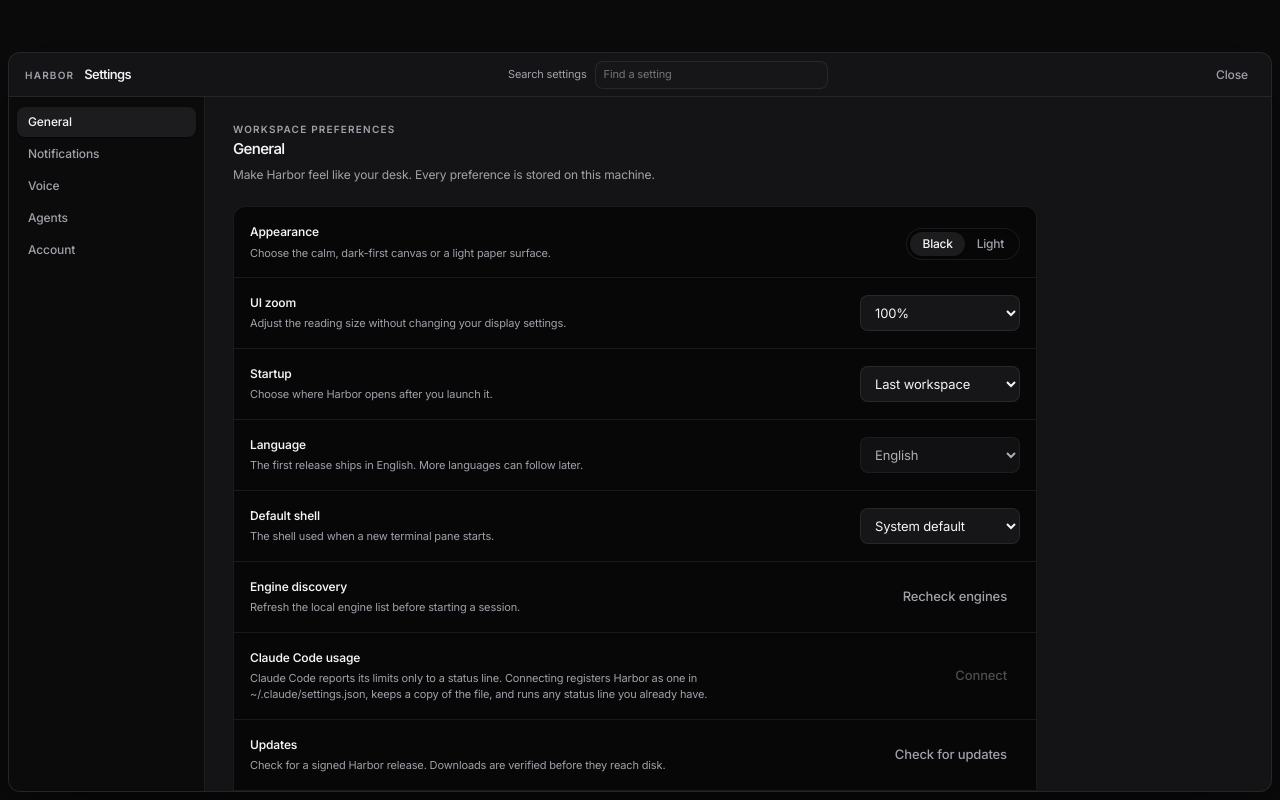
Scenario: Settings search › finds Mail across pages and reports when nothing matches
Type "Mail" into the field labelled "Search settings" at [711, 74], box left=595, top=60, right=828, bottom=88
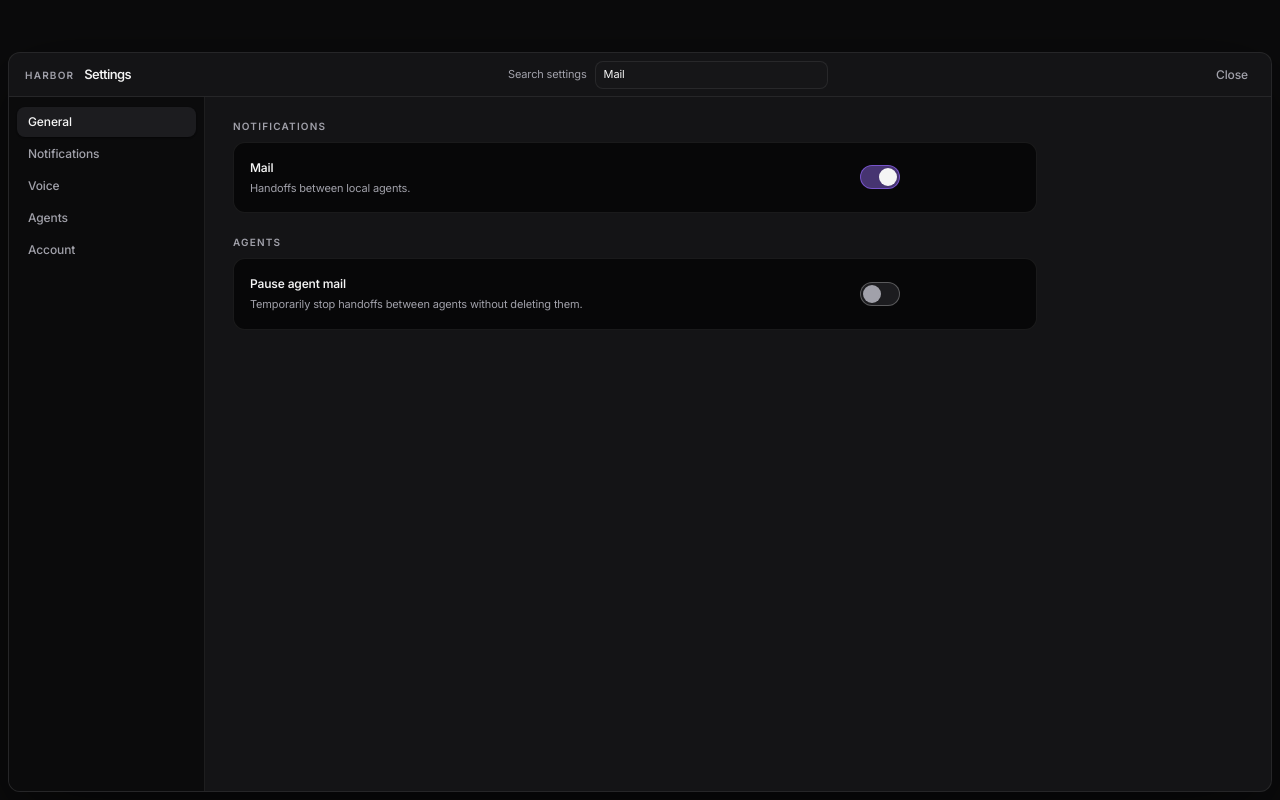
expect the switch named "Mail" is shown: met, box left=860, top=165, right=900, bottom=189
expect the switch named "Pause agent mail" is shown: met, box left=860, top=282, right=900, bottom=306
expect the text "Default shell" is gone: met
Replace the text in the field labelled "Search settings" with "xyzzy" at [711, 74], box left=595, top=60, right=828, bottom=88
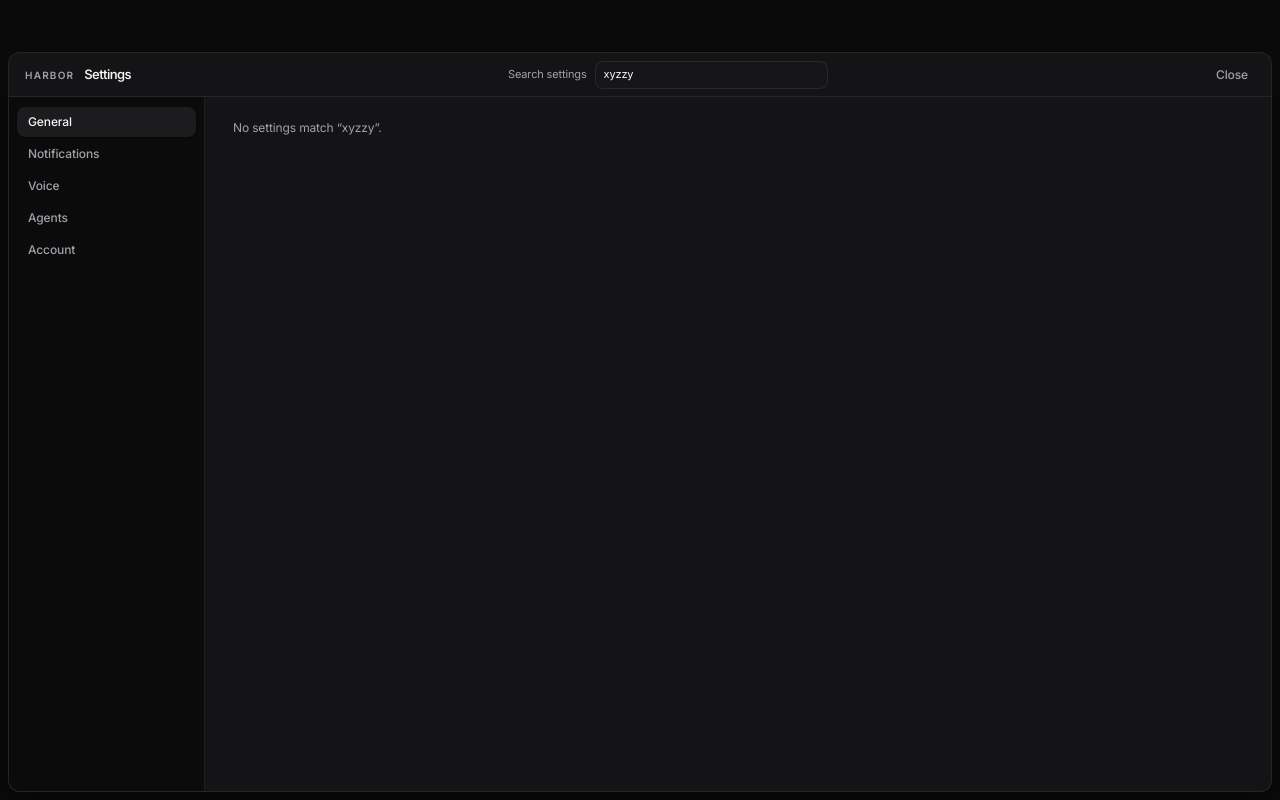
expect the text "No settings match “xyzzy”." is shown: met, box left=233, top=120, right=382, bottom=135
expect the text "Mail" is gone: met
